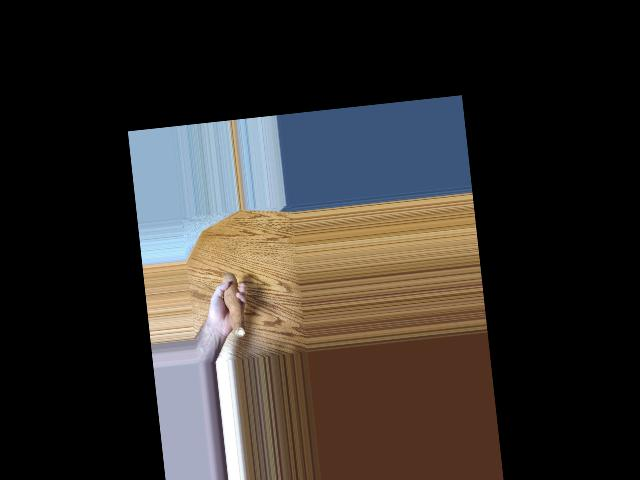sweet_potato: (224, 267, 248, 340)
